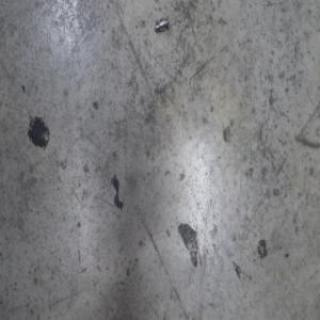Bolttrack_idkeyframe: (152, 12, 168, 32)
